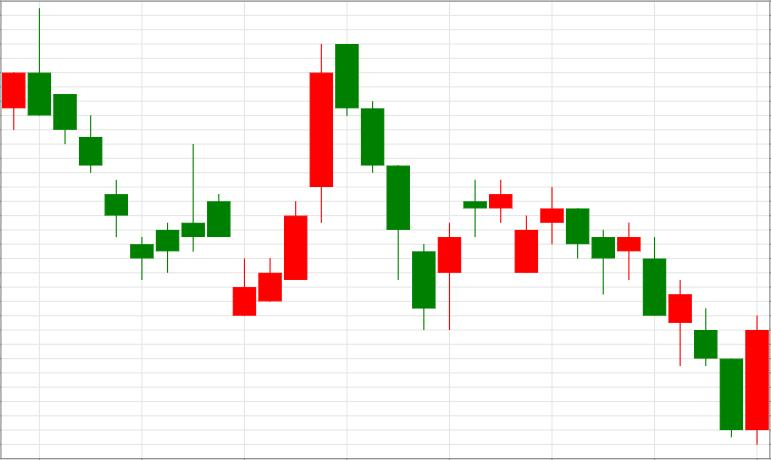bullish_engulfing_rise: (618, 223, 769, 444)
three_black_crows_fall: (233, 44, 410, 316)
